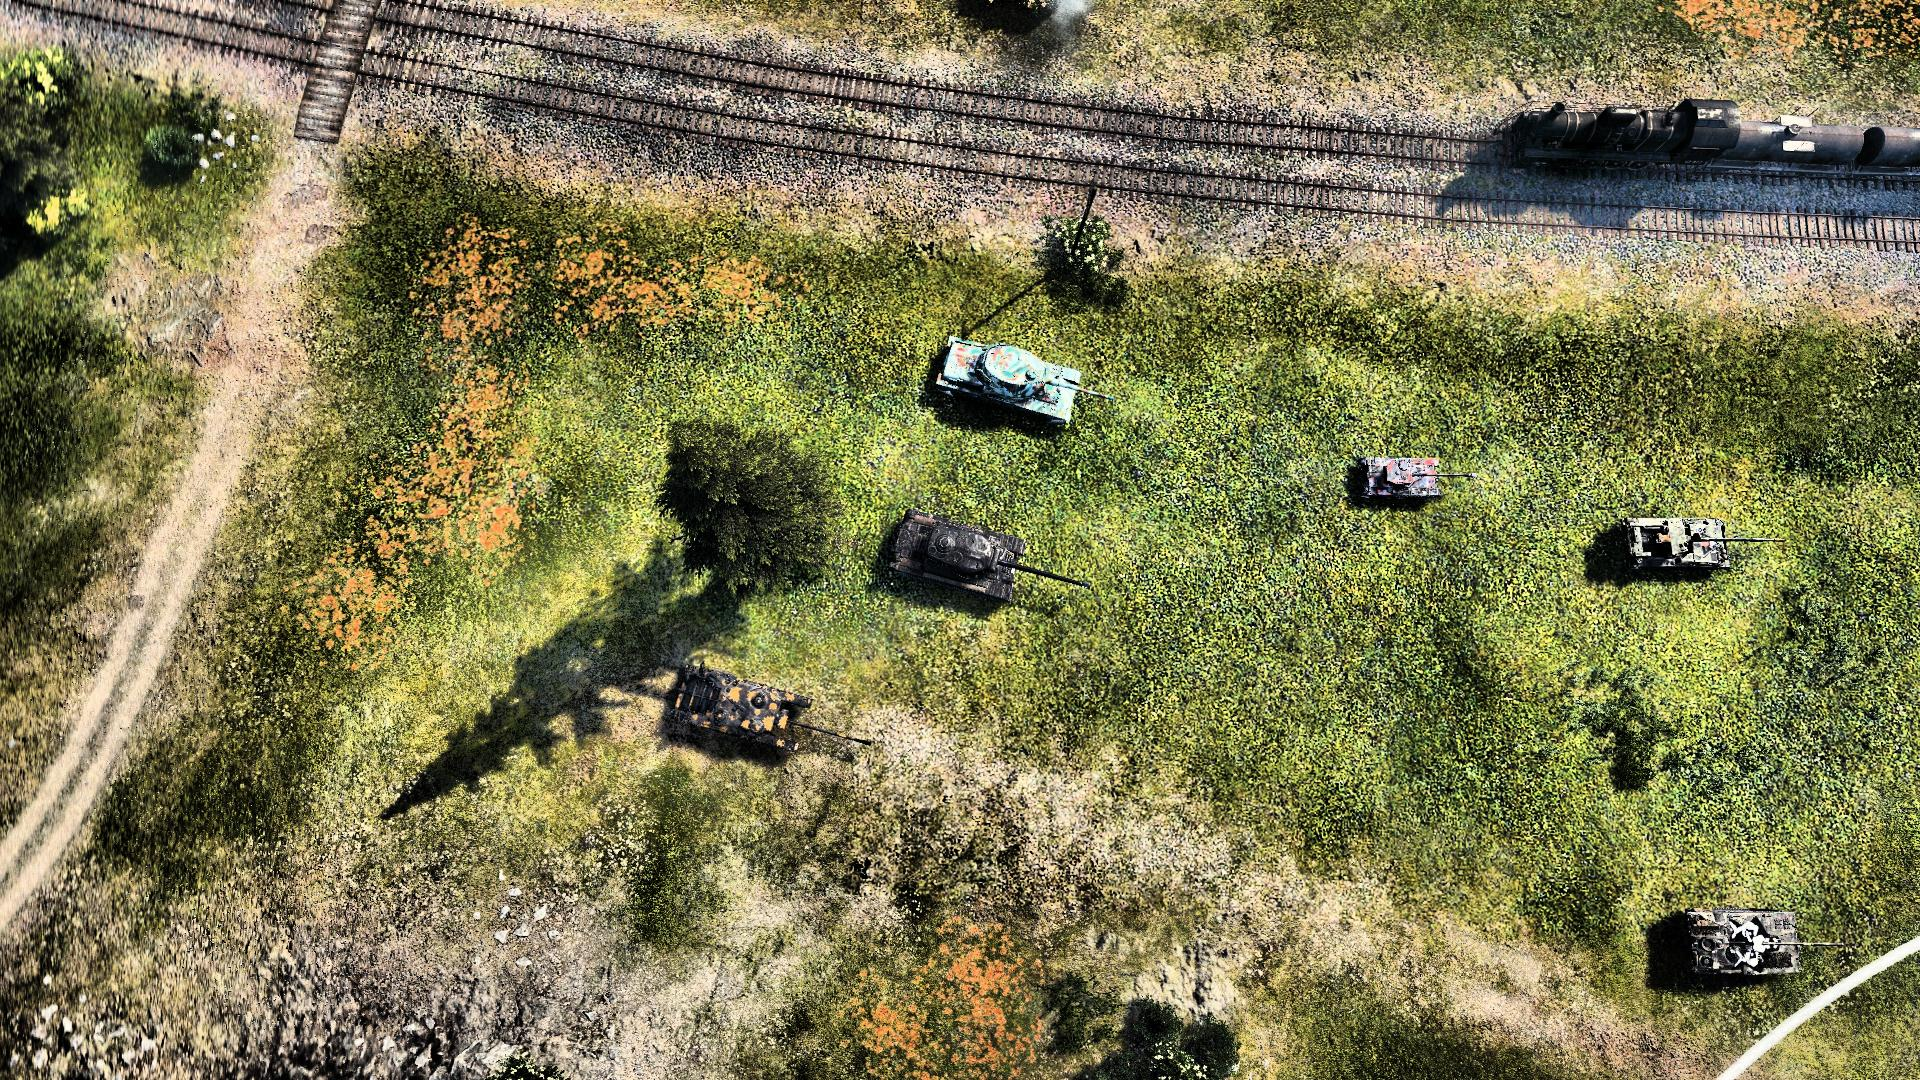military-vehicle: (884, 512, 1088, 608), (674, 663, 872, 760), (930, 335, 1118, 425), (1681, 903, 1846, 980), (1625, 513, 1788, 574), (1356, 450, 1476, 504)
